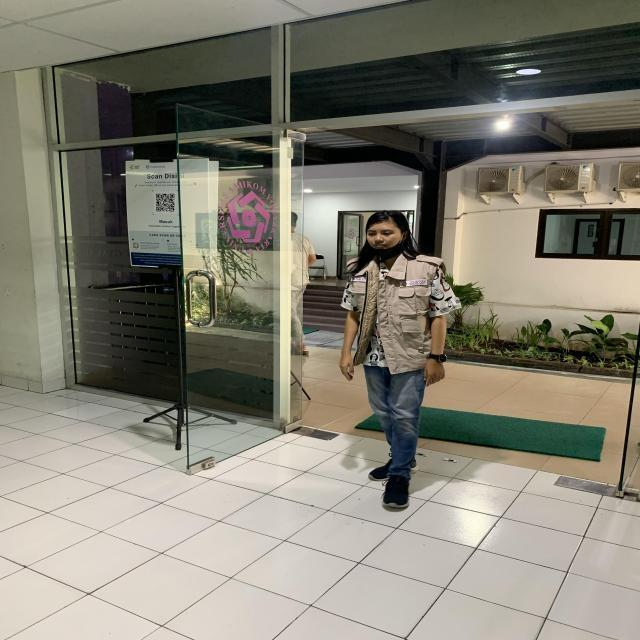hairnet: (354, 208, 414, 254)
